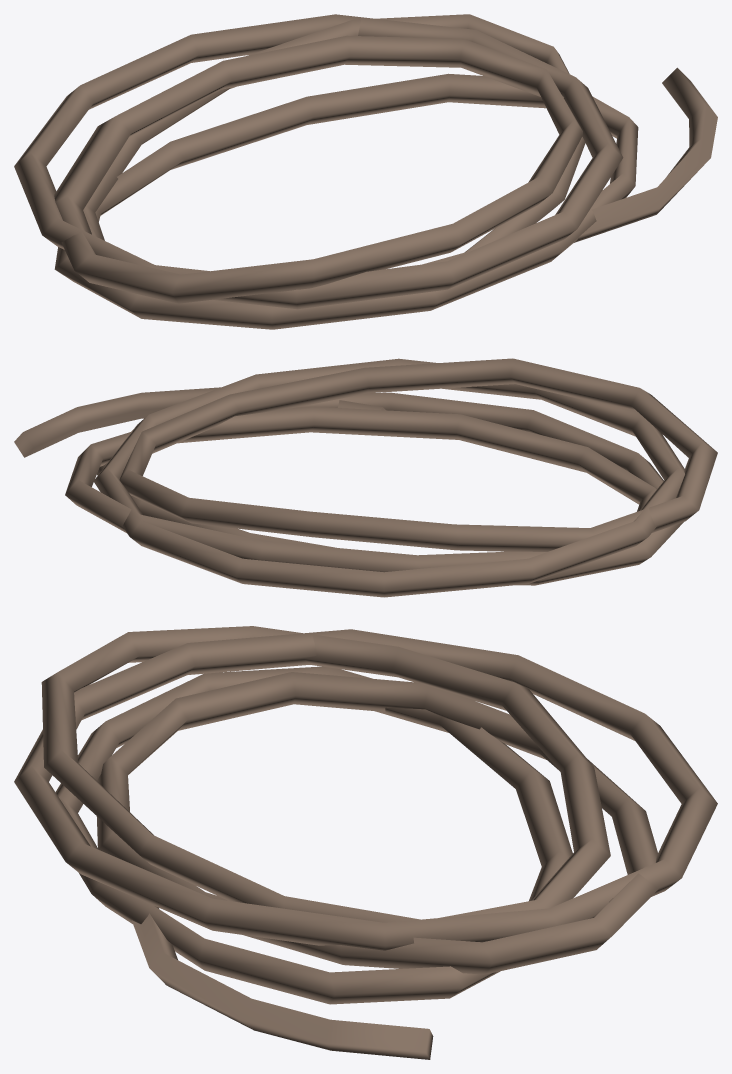
The model's file is Rope 1.glb.
3 views of the same model, one above another, from view 1: azimuth 30°, elevation 25°; view 2: azimuth 150°, elevation 25°; view 3: azimuth 270°, elevation 25° (orthographic). The views are drawn at different scales.
Visible parts, largest first — view 1: Rope 1; view 2: Rope 1; view 3: Rope 1.
Boxes of the visible parts, x1=… form: Rope 1: x1=14, y1=14, x2=717, y2=329; Rope 1: x1=14, y1=358, x2=717, y2=597; Rope 1: x1=14, y1=626, x2=717, y2=1059.
Size of the model in its own units: 1.57 by 0.187 by 1.22.
1 material, 1 textured.
